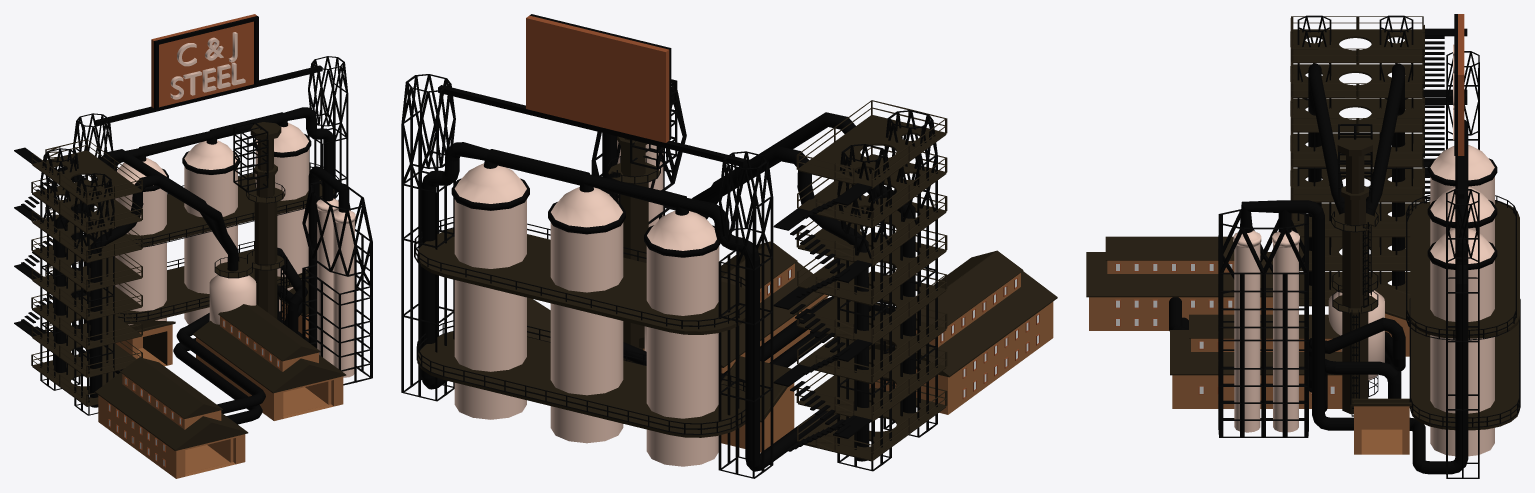
Rendered from SteelFactory.fbx.
The picture shows the model from 3 angles, left to right: view 1: azimuth 30°, elevation 25°; view 2: azimuth 150°, elevation 25°; view 3: azimuth 270°, elevation 25°; orthographic projection. The views are drawn at different scales.
Parts seen in each view (by area): view 1: SteelFactory_LOD0; view 2: SteelFactory_LOD0; view 3: SteelFactory_LOD0.
Part boxes in pixels (x1,y1,x2,y2): SteelFactory_LOD0: [14, 14, 372, 478]; SteelFactory_LOD0: [401, 14, 1057, 478]; SteelFactory_LOD0: [1086, 14, 1520, 478].
Size of what is drawn, in the model's own units: 2751 by 2402 by 2633.
